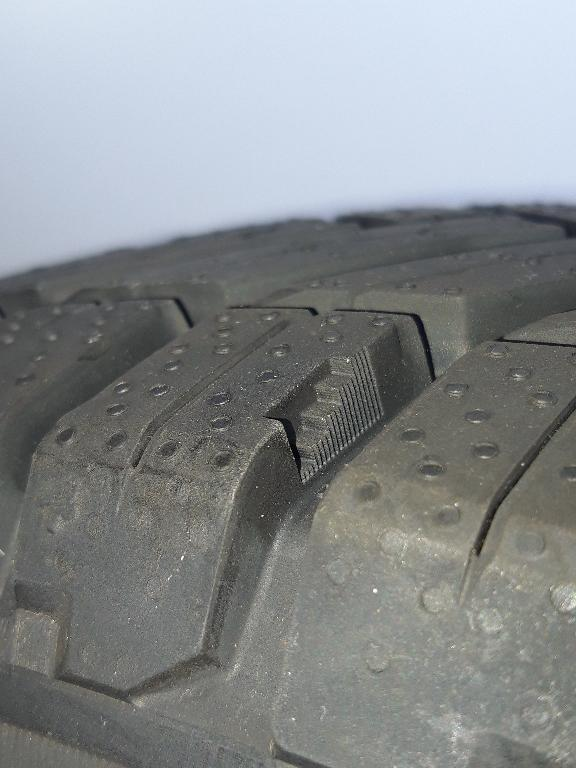temoin:100: (258, 344, 389, 487)
